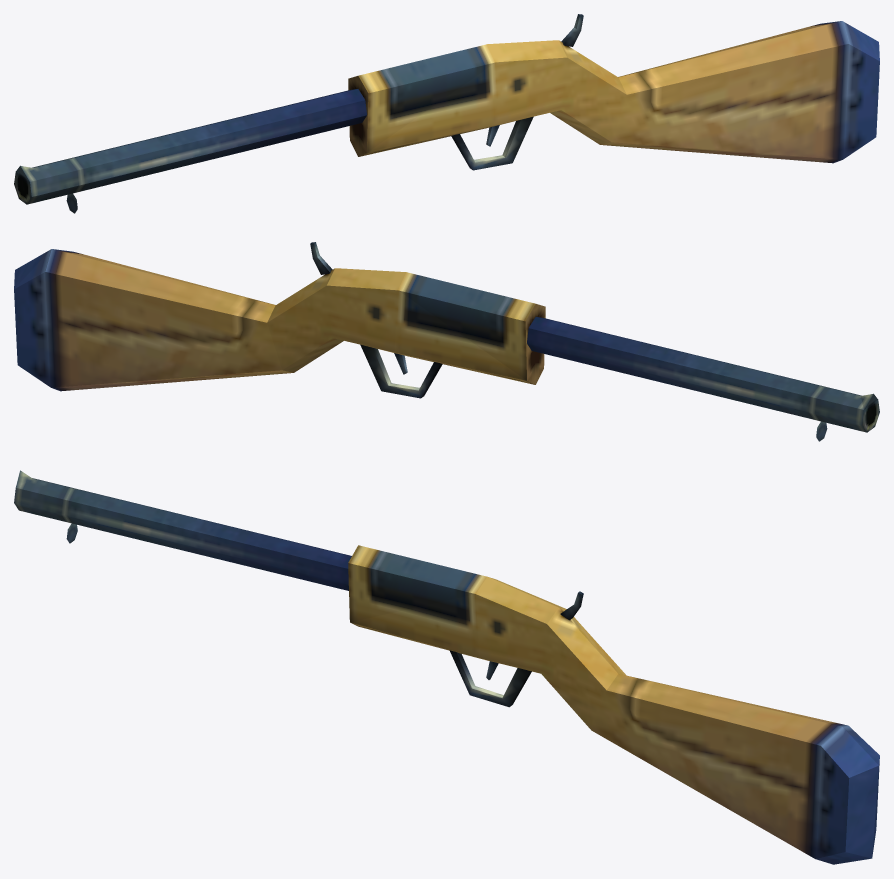
File: Rabbit_commonGun.obj
The picture shows the model from 3 angles, top to bottom: view 1: azimuth 30°, elevation 25°; view 2: azimuth 150°, elevation 25°; view 3: azimuth 330°, elevation 25°; orthographic projection.
Parts seen in each view (by area): view 1: Rabbit_commonGun_tri; view 2: Rabbit_commonGun_tri; view 3: Rabbit_commonGun_tri.
Boxes of the visible parts, left/top/right/bottom form: Rabbit_commonGun_tri: left=14, top=14, right=879, bottom=213; Rabbit_commonGun_tri: left=14, top=242, right=879, bottom=441; Rabbit_commonGun_tri: left=14, top=470, right=879, bottom=864.
Bounding box in the file's own units: 0.736 × 0.1725 × 0.0458.
Materials: 1 (1 with a texture image).
